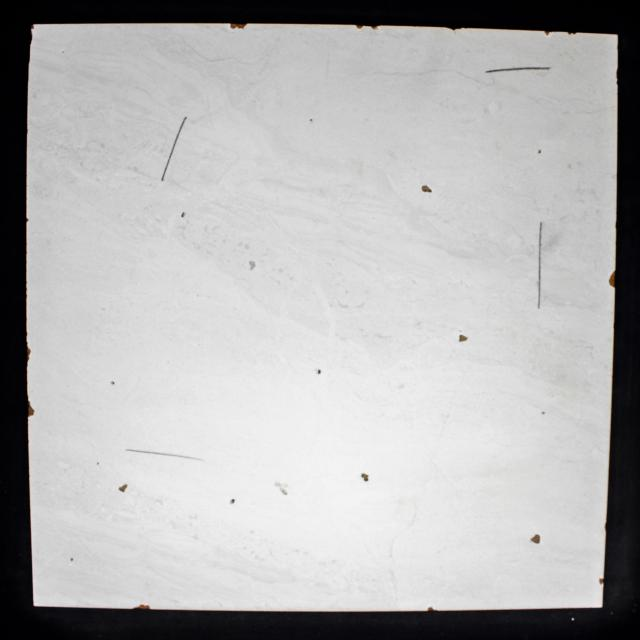edge-chipping: (27, 396, 34, 418), (609, 271, 616, 288), (229, 23, 248, 29), (132, 604, 150, 610), (26, 343, 31, 362), (445, 27, 464, 31), (543, 30, 552, 36), (355, 24, 364, 30), (567, 32, 577, 36), (599, 578, 604, 585), (427, 608, 437, 611), (371, 25, 378, 29), (30, 24, 34, 30)
hole: (531, 534, 541, 544), (421, 185, 433, 193), (458, 334, 468, 343), (119, 484, 128, 493), (361, 473, 368, 481), (230, 499, 235, 504), (181, 212, 185, 218), (111, 380, 115, 386), (538, 149, 542, 154), (317, 369, 321, 374), (309, 118, 313, 122), (69, 558, 73, 562)
line: (161, 116, 188, 182), (123, 448, 203, 461), (536, 221, 544, 310), (486, 67, 550, 74)
